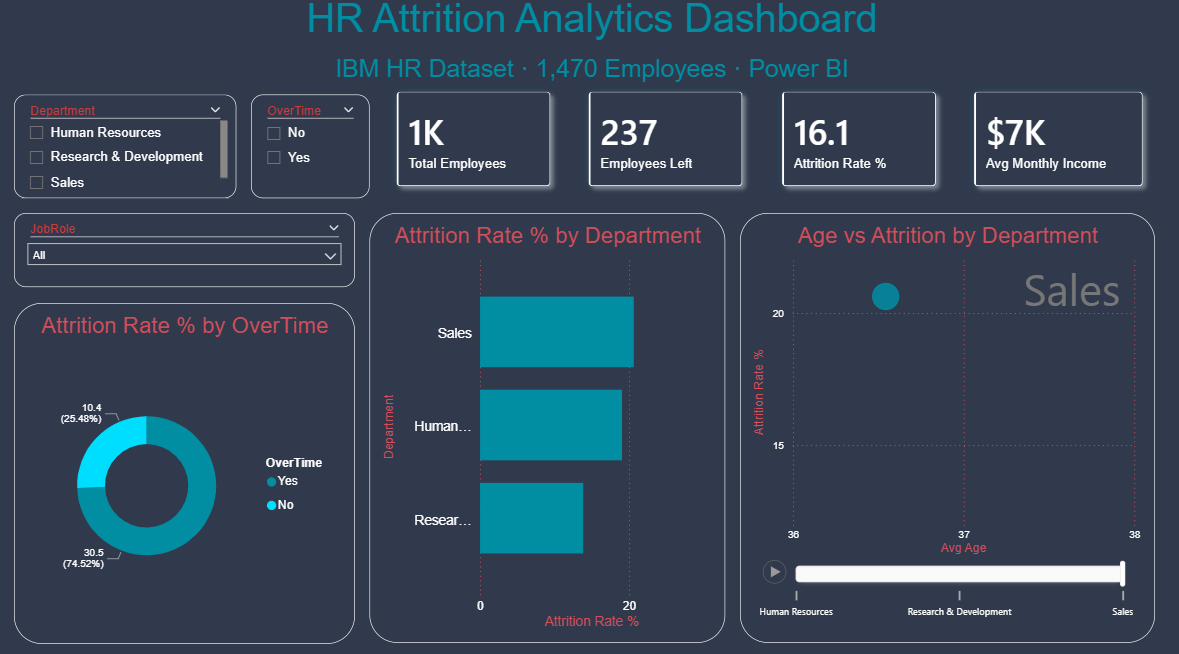

What the dashboard file says about the page in this screenshot:
{"tool":"powerbi","page":{"name":"Executive Overview","canvas":[1280,720],"ordinal":0},"visuals":[{"type":"clusteredBarChart","fields":{"Category":["hr_attrition_clean.Department"],"Y":["HR_Measures.Attrition Rate %"]},"box":[400,240,384,464],"z":4000},{"type":"cardVisual","fields":{"Data":["HR_Measures.Total Employees"]},"box":[400,80,240,160],"z":4500},{"type":"cardVisual","fields":{"Data":["HR_Measures.Employees Left"]},"box":[608,80,240,160],"z":4750},{"type":"cardVisual","fields":{"Data":["HR_Measures.Attrition Rate %"]},"box":[816,80,240,160],"z":4875},{"type":"cardVisual","fields":{"Data":["HR_Measures.Avg Monthly Income"]},"box":[1024,80,240,160],"z":4937},{"type":"donutChart","fields":{"Category":["hr_attrition_clean.OverTime"],"Y":["HR_Measures.Attrition Rate %"]},"box":[16,336,368,368],"z":5000},{"type":"scatterChart","title":"Age vs Attrition by Department","fields":{"Y":["HR_Measures.Attrition Rate %"],"Size":["HR_Measures.Total Employees"],"Play":["hr_attrition_clean.Department"],"X":["HR_Measures.Avg Age"]},"box":[800,240,448,464],"z":6000},{"type":"slicer","fields":{"Values":["hr_attrition_clean.Department"]},"box":[16,112,240,112],"z":7000},{"type":"slicer","fields":{"Values":["hr_attrition_clean.JobRole"]},"box":[16,240,368,80],"z":8000},{"type":"slicer","fields":{"Values":["hr_attrition_clean.OverTime"]},"box":[272,112,128,112],"z":9000},{"type":"textbox","box":[0,0,1280,112],"z":10000}]}

Visuals, with their boxes in screenshot pixels (x1, y1, x2, y2), scaled from the page's 1280x720 canvas onto the 1179x654 screenshot:
clusteredBarChart - hr_attrition_clean.Department x HR_Measures.Attrition Rate %: pyautogui.locateOnScreen(368, 218, 722, 639)
cardVisual - HR_Measures.Total Employees: pyautogui.locateOnScreen(368, 73, 590, 218)
cardVisual - HR_Measures.Employees Left: pyautogui.locateOnScreen(560, 73, 781, 218)
cardVisual - HR_Measures.Attrition Rate %: pyautogui.locateOnScreen(752, 73, 973, 218)
cardVisual - HR_Measures.Avg Monthly Income: pyautogui.locateOnScreen(943, 73, 1164, 218)
donutChart - hr_attrition_clean.OverTime x HR_Measures.Attrition Rate %: pyautogui.locateOnScreen(15, 305, 354, 639)
"Age vs Attrition by Department" scatterChart: pyautogui.locateOnScreen(737, 218, 1150, 639)
slicer - hr_attrition_clean.Department: pyautogui.locateOnScreen(15, 102, 236, 203)
slicer - hr_attrition_clean.JobRole: pyautogui.locateOnScreen(15, 218, 354, 291)
slicer - hr_attrition_clean.OverTime: pyautogui.locateOnScreen(251, 102, 368, 203)
textbox: pyautogui.locateOnScreen(0, 0, 1178, 102)
